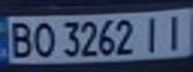2: (115, 16, 139, 57), (78, 17, 100, 59)
3: (57, 18, 81, 58)
6: (96, 17, 121, 57)
B: (3, 19, 36, 60)
I: (160, 11, 190, 52), (139, 14, 169, 53)
O: (27, 19, 57, 58)
